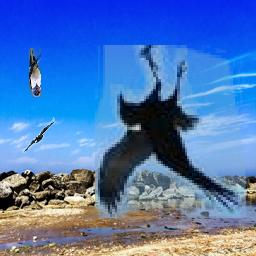Crow: (96, 46, 247, 219), (21, 117, 55, 153)
Swallow: (29, 49, 41, 98)
